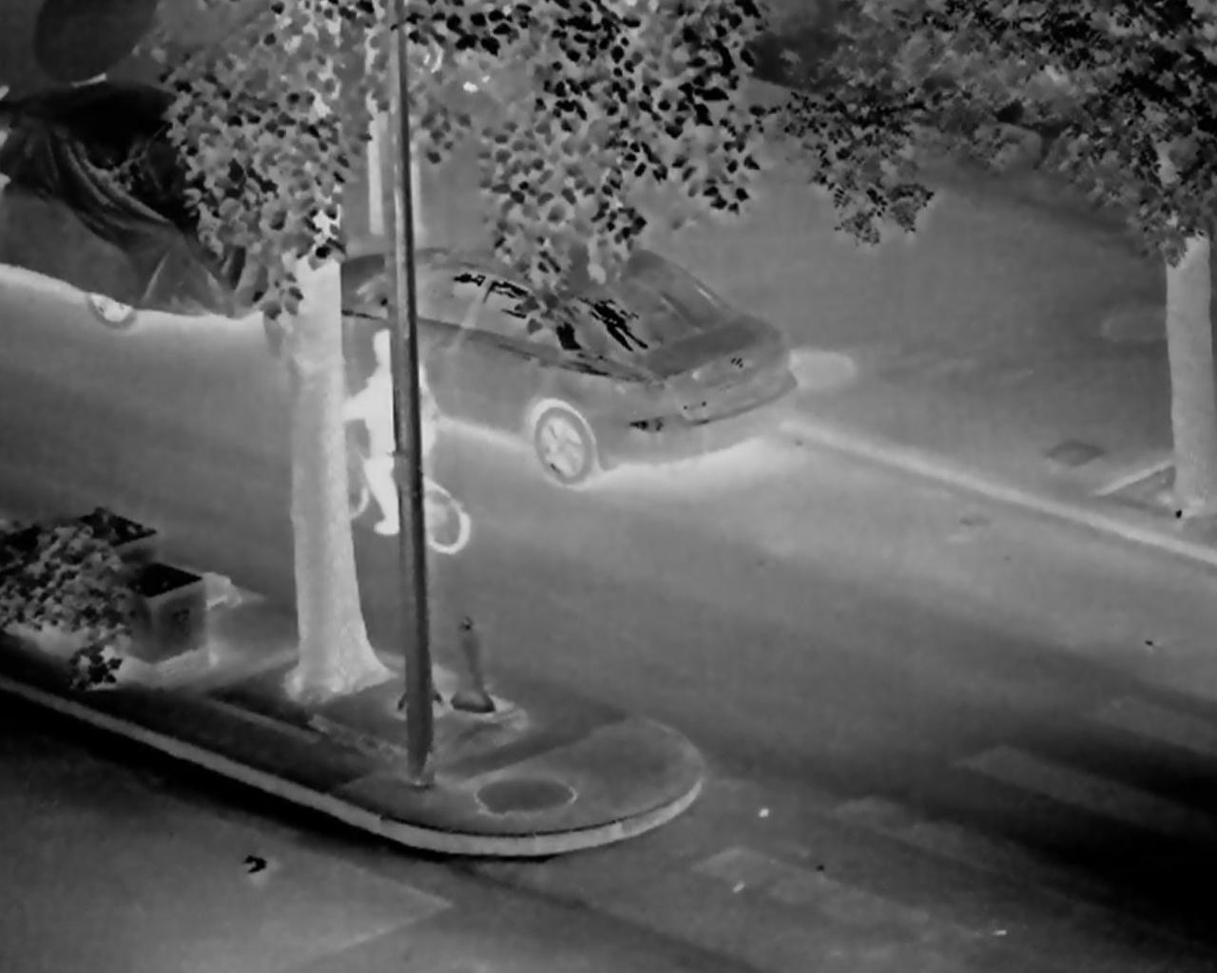person: (331, 315, 453, 547)
